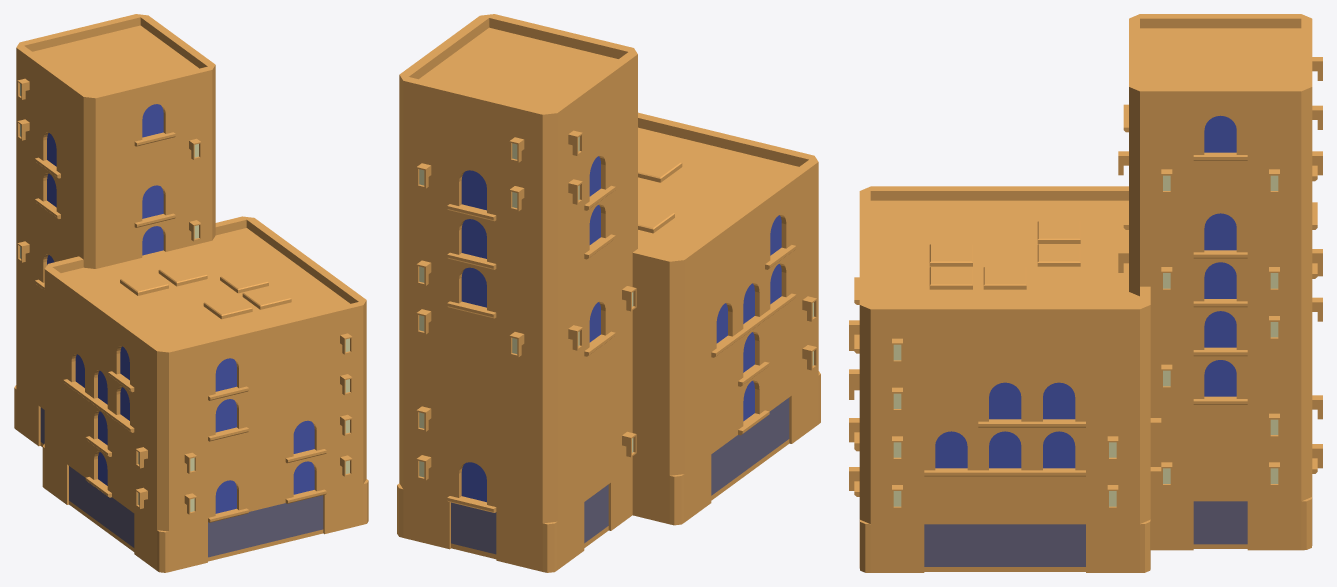
File: house v2.002.fbx
3 views of the same model, side by side, from view 1: azimuth 30°, elevation 25°; view 2: azimuth 150°, elevation 25°; view 3: azimuth 270°, elevation 25° (orthographic). The views are drawn at different scales.
Parts seen in each view (by area): view 1: House.001; view 2: House.001; view 3: House.001.
Boxes of the visible parts, <box> form: House.001: <box>14,14,368,572</box>; House.001: <box>397,14,820,572</box>; House.001: <box>849,14,1322,572</box>.
Bounding box in the file's own units: 580 × 940 × 880.
